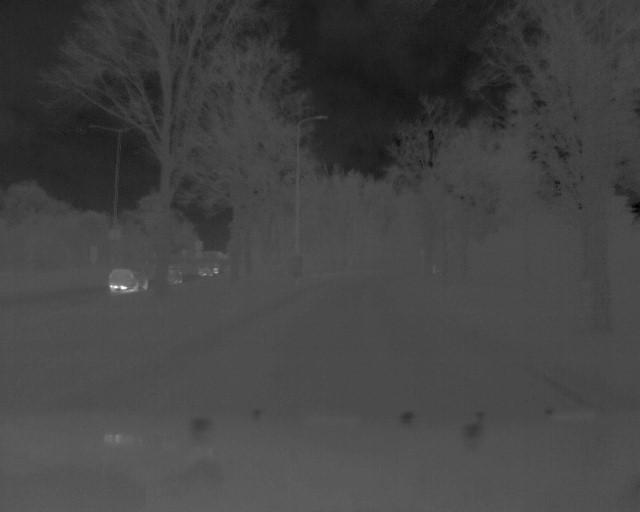car: (106, 265, 152, 293)
